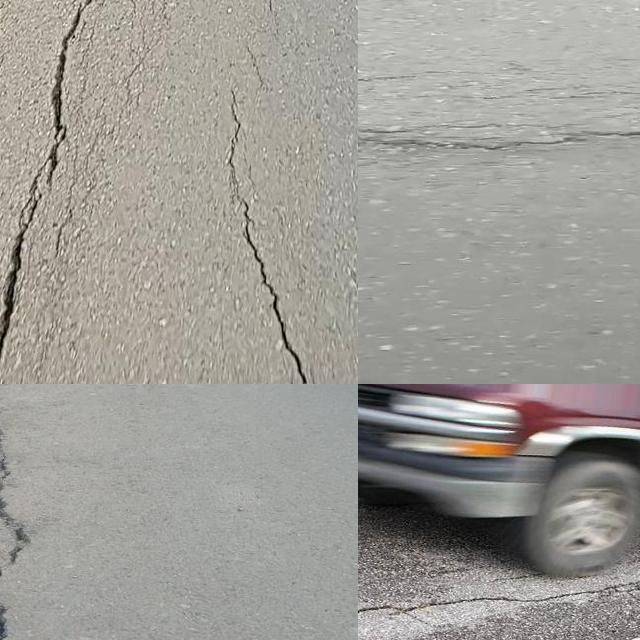Melintang: (358, 114, 640, 167)
Memanjang: (0, 0, 107, 384), (210, 75, 319, 384), (0, 384, 50, 640)
